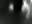person: (23, 1, 32, 20), (9, 5, 15, 13)
